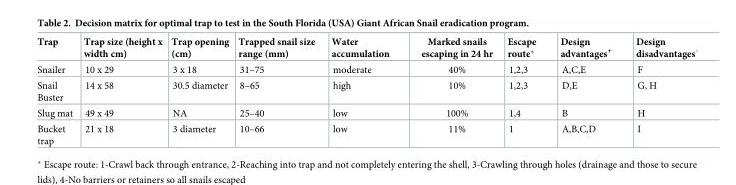table: (36, 36, 696, 145)
table column: (404, 36, 499, 145), (232, 36, 322, 145), (77, 36, 166, 145), (322, 36, 404, 145), (547, 36, 623, 145), (623, 36, 696, 145), (166, 36, 232, 145), (499, 36, 547, 145), (36, 36, 77, 145)
table column header: (36, 36, 696, 61)
table row: (36, 77, 696, 105), (36, 36, 696, 61), (36, 120, 696, 145), (36, 61, 696, 77), (36, 105, 696, 120)
